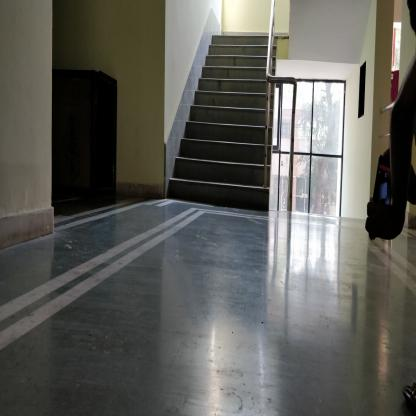stairs: (216, 34, 264, 214)
